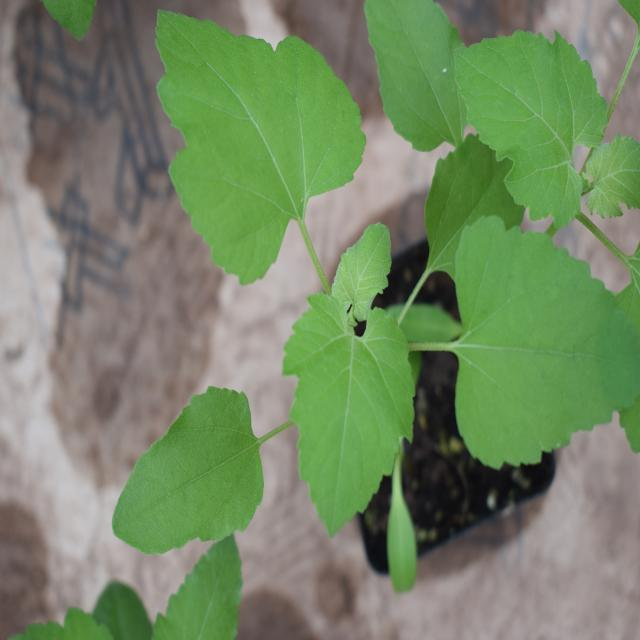cocklebur: (119, 11, 624, 534)
